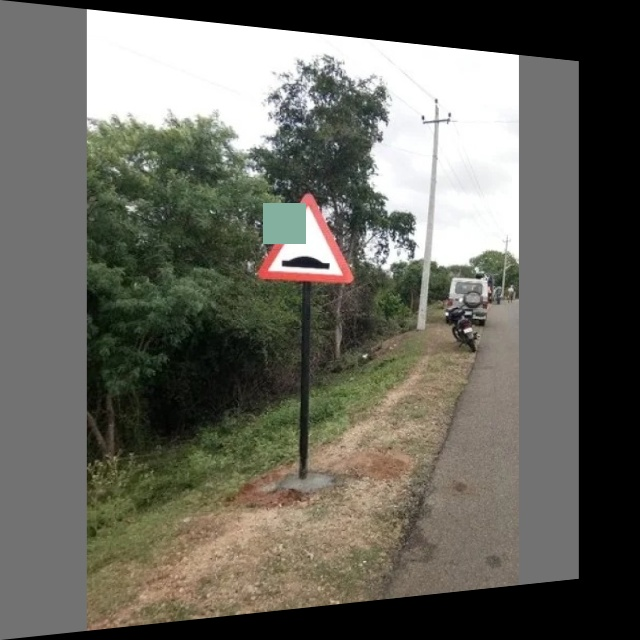Hump_or_Rough_Road: (251, 187, 356, 292)
